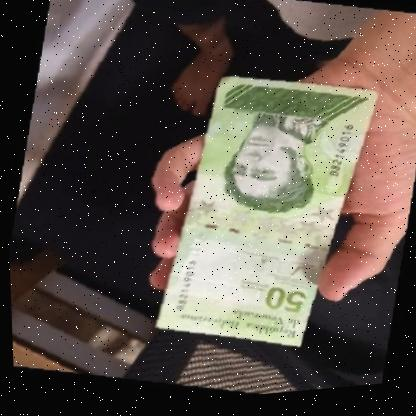fifty-front-vef: (143, 62, 386, 368)
